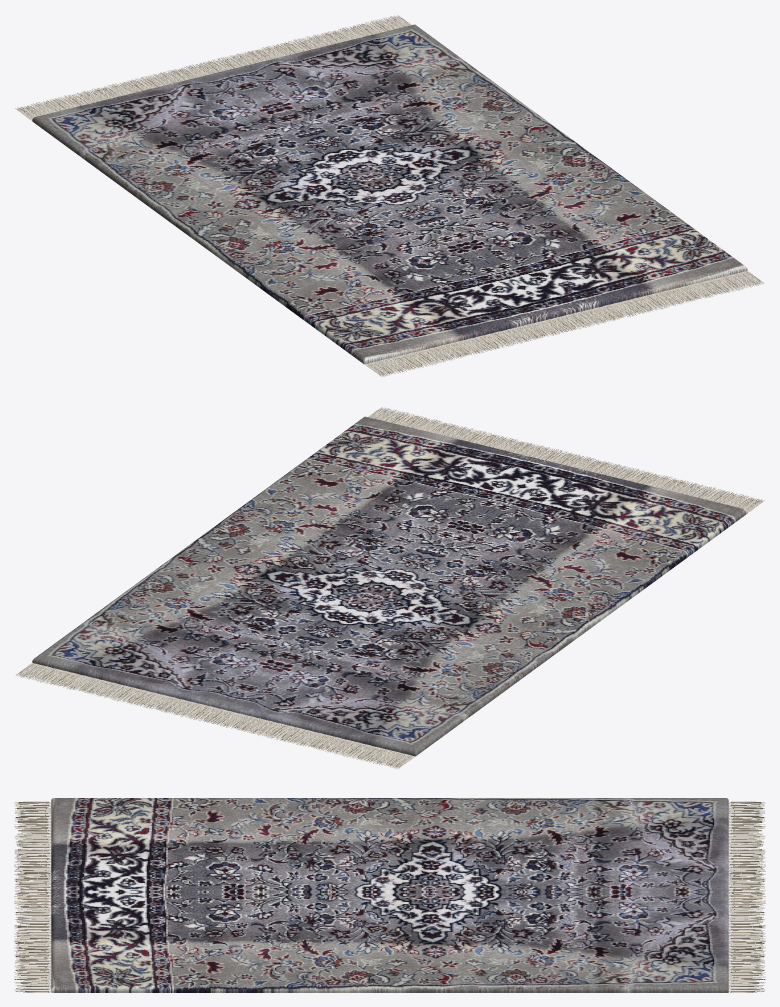
3 views of the same model, one above another, from view 1: azimuth 30°, elevation 25°; view 2: azimuth 150°, elevation 25°; view 3: azimuth 270°, elevation 25° (orthographic). The views are drawn at different scales.
Parts seen in each view (by area): view 1: k13; view 2: k13; view 3: k13.
Boxes of the visible parts, x1,y1,x2,y2 form: k13: (15, 15, 763, 376); k13: (16, 407, 764, 768); k13: (14, 798, 765, 992).
Bounding box in the file's own units: 0.8 × 0.0105 × 1.33.
3 materials, 2 textured.
